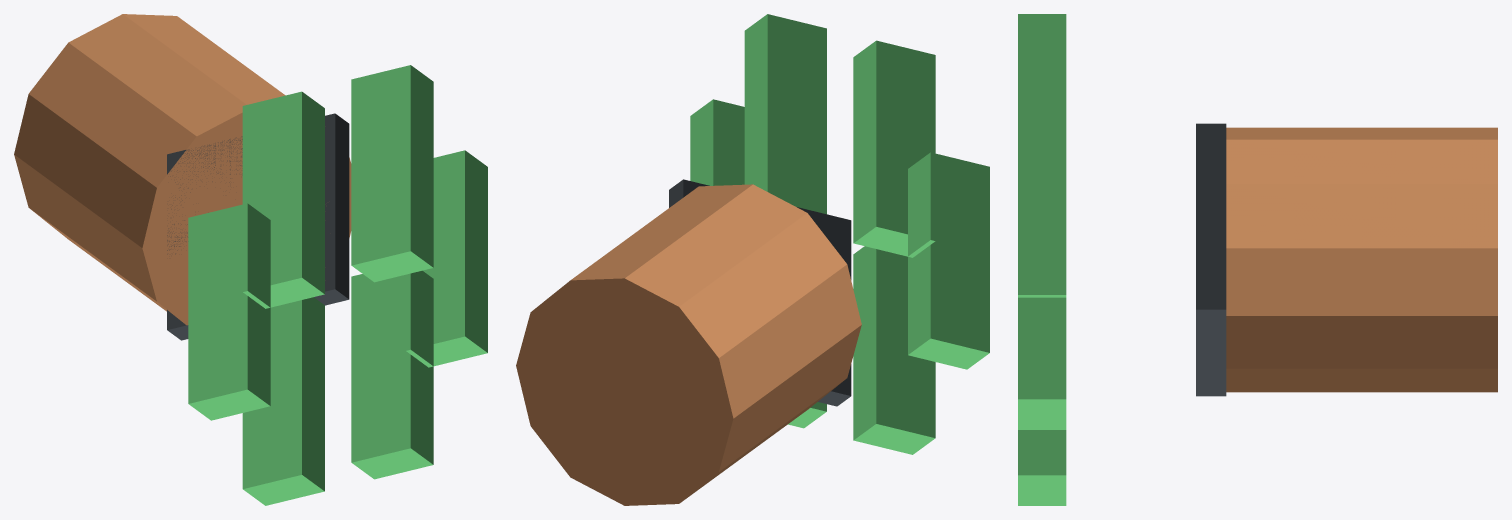
The model's file is plant.glb.
The picture shows the model from 3 angles, left to right: view 1: azimuth 30°, elevation 25°; view 2: azimuth 150°, elevation 25°; view 3: azimuth 270°, elevation 25°; orthographic projection. The views are drawn at different scales.
Visible parts, largest first — view 1: plant_pot, plant_leaf_1, plant_leaf_3, plant_leaf_5, plant_leaf_2, plant_leaf_4, plant_leaf_0, plant_soil; view 2: plant_pot, plant_leaf_3, plant_leaf_1, plant_leaf_2, plant_leaf_4, plant_leaf_0, plant_soil; view 3: plant_pot, plant_leaf_0, plant_soil, plant_leaf_1, plant_leaf_5, plant_leaf_2.
Part boxes in pixels (x1,y1,x2,y2): plant_pot: (14, 14, 351, 325); plant_leaf_1: (351, 65, 433, 282); plant_leaf_3: (188, 203, 270, 420); plant_leaf_5: (351, 270, 433, 479); plant_leaf_2: (242, 91, 324, 308); plant_leaf_4: (242, 297, 324, 505); plant_leaf_0: (406, 150, 487, 367); plant_soil: (167, 113, 349, 340); plant_pot: (516, 184, 861, 505); plant_leaf_3: (908, 152, 989, 369); plant_leaf_1: (744, 14, 826, 214); plant_leaf_2: (853, 40, 935, 257); plant_leaf_4: (853, 246, 935, 454); plant_leaf_0: (690, 99, 772, 193); plant_soil: (669, 179, 851, 406); plant_pot: (1226, 127, 1497, 392); plant_leaf_0: (1018, 202, 1066, 429); plant_soil: (1196, 123, 1226, 396); plant_leaf_1: (1018, 70, 1066, 297); plant_leaf_5: (1018, 430, 1066, 505); plant_leaf_2: (1018, 14, 1066, 69).
Bounding box in the file's own units: 0.56 × 0.7411 × 0.795.
